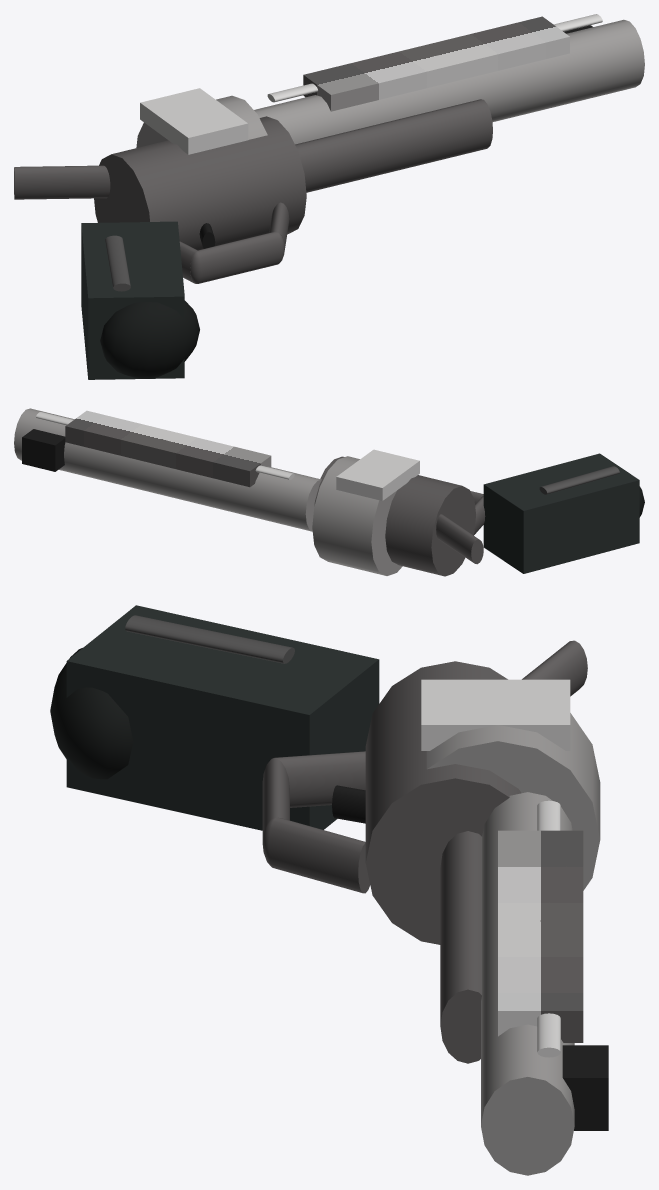
Rendered from CMU3DWorldRMCWeaponRevolver38MagnumCloud.glb.
The picture shows the model from 3 angles, top to bottom: view 1: azimuth 30°, elevation 25°; view 2: azimuth 150°, elevation 25°; view 3: azimuth 270°, elevation 25°; orthographic projection. The views are drawn at different scales.
Parts seen in each view (by area): view 1: rounded silver frame, long silver barrel, source silver barrel facet, lower barrel underlug, dark swept grip, rounded grip heel, raised cylinder light face, rear exterior hammer spur, open trigger guard member 2, side cylinder casing, grip outer contour, top barrel bright ridge (+1 smaller); view 2: dark swept grip, long silver barrel, source silver barrel facet, rounded silver frame, side cylinder casing, raised cylinder light face, front sight, rear exterior hammer spur, grip outer contour, top barrel bright ridge, open trigger guard member 1; view 3: dark swept grip, rounded silver frame, source silver barrel facet, long silver barrel, side cylinder casing, lower barrel underlug, raised cylinder light face, rounded grip heel, open trigger guard member 3, open trigger guard member 1, front sight, grip outer contour (+4 smaller).
Part boxes in pixels (x1,y1,x2,y2): rounded silver frame: [94, 116, 306, 250]; long silver barrel: [254, 19, 644, 144]; source silver barrel facet: [303, 16, 569, 111]; lower barrel underlug: [295, 99, 492, 192]; dark swept grip: [81, 221, 184, 379]; rounded grip heel: [100, 300, 199, 378]; raised cylinder light face: [140, 88, 248, 154]; rear exterior hammer spur: [14, 165, 110, 199]; open trigger guard member 2: [197, 232, 280, 283]; side cylinder casing: [136, 95, 267, 147]; grip outer contour: [105, 235, 130, 291]; top barrel bright ridge: [267, 14, 602, 102]; dark swept grip: [483, 453, 639, 573]; long silver barrel: [14, 408, 321, 531]; source silver barrel facet: [65, 410, 271, 487]; rounded silver frame: [314, 456, 475, 576]; side cylinder casing: [312, 456, 402, 575]; raised cylinder light face: [336, 449, 419, 500]; front sight: [22, 429, 65, 471]; rear exterior hammer spur: [436, 514, 483, 564]; grip outer contour: [539, 466, 619, 494]; top barrel bright ridge: [36, 412, 294, 479]; open trigger guard member 1: [473, 496, 485, 535]; dark swept grip: [66, 605, 379, 830]; rounded silver frame: [365, 661, 521, 944]; source silver barrel facet: [498, 830, 583, 1042]; long silver barrel: [481, 792, 574, 1175]; side cylinder casing: [426, 713, 600, 890]; lower barrel underlug: [440, 831, 481, 1063]; raised cylinder light face: [421, 679, 570, 750]; rounded grip heel: [50, 648, 133, 779]; open trigger guard member 3: [268, 817, 370, 893]; open trigger guard member 1: [276, 751, 365, 807]; front sight: [562, 1045, 608, 1130]; grip outer contour: [125, 615, 294, 663].
Bounding box in the file's own units: 0.8734 × 0.161 × 0.4094.
8 materials, 1 textured.
